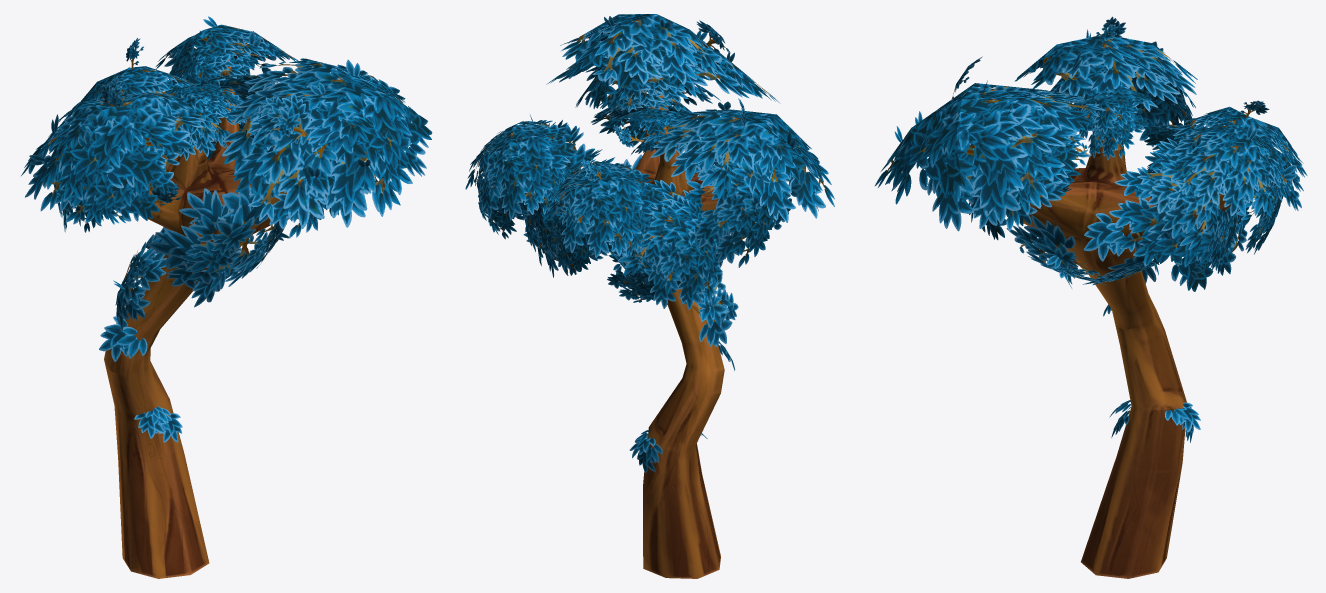
File: 6_Azul.fbx
3 renders of one model, left to right at view 1: azimuth 30°, elevation 25°; view 2: azimuth 150°, elevation 25°; view 3: azimuth 270°, elevation 25°, orthographic. The views are drawn at different scales.
Parts seen in each view (by area): view 1: 6_Azul; view 2: 6_Azul; view 3: 6_Azul.
Boxes of the visible parts, <box> form: 6_Azul: <box>21,16,432,578</box>; 6_Azul: <box>465,14,834,578</box>; 6_Azul: <box>874,16,1307,578</box>.
Size of the model in its own units: 528 by 768 by 573.
